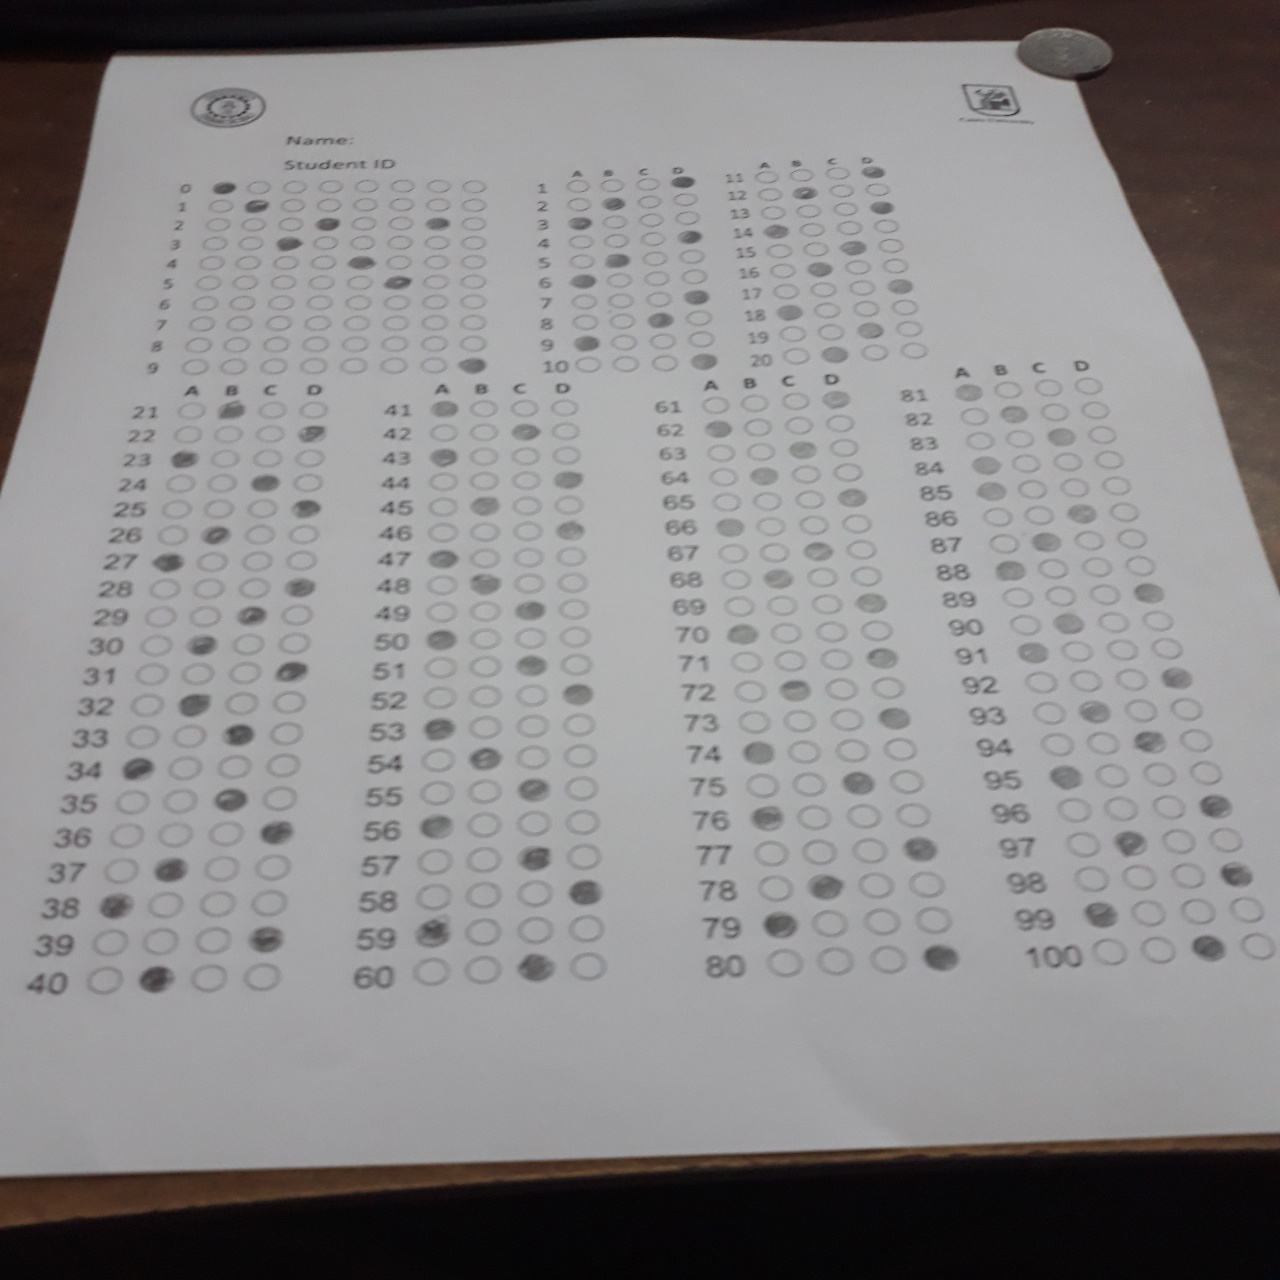not-c: (1129, 896, 1172, 930), (1141, 934, 1177, 965), (1091, 937, 1126, 967), (915, 906, 952, 935), (910, 870, 946, 899), (870, 945, 906, 974), (818, 946, 855, 975), (769, 948, 805, 978), (866, 905, 903, 934), (754, 838, 790, 867), (802, 836, 838, 865), (896, 801, 932, 830), (798, 803, 835, 832), (745, 770, 782, 799), (890, 765, 926, 795), (791, 769, 828, 798), (835, 734, 871, 763), (515, 915, 553, 942), (862, 871, 897, 900), (760, 872, 795, 901), (853, 835, 888, 864), (787, 735, 822, 764), (821, 908, 857, 937), (844, 799, 880, 828), (831, 704, 869, 731), (418, 847, 456, 874), (256, 855, 293, 881), (822, 676, 860, 702), (869, 674, 907, 700), (733, 678, 771, 703), (568, 952, 607, 978), (243, 965, 281, 990), (263, 753, 301, 778), (277, 631, 315, 656), (229, 631, 267, 656), (137, 631, 173, 658), (880, 735, 918, 761), (779, 706, 817, 731), (738, 704, 776, 730), (517, 810, 554, 836), (467, 847, 504, 873), (415, 883, 452, 908), (411, 958, 449, 983), (191, 965, 229, 990), (252, 890, 290, 915), (200, 892, 238, 918), (207, 822, 245, 847), (162, 788, 199, 813), (218, 753, 256, 778), (168, 754, 205, 779), (122, 721, 159, 747), (266, 720, 304, 745), (132, 660, 170, 686), (229, 659, 266, 685), (278, 601, 315, 627), (191, 573, 229, 599), (144, 576, 182, 601), (568, 915, 607, 940), (202, 853, 240, 878), (169, 722, 207, 747), (271, 689, 309, 714), (139, 602, 178, 627), (236, 574, 274, 599), (567, 843, 604, 869), (464, 883, 501, 908), (117, 789, 154, 815), (186, 604, 223, 629), (465, 811, 503, 836), (519, 881, 557, 906), (464, 956, 502, 981), (88, 968, 125, 993), (98, 928, 136, 953), (145, 928, 183, 953), (195, 928, 232, 953), (147, 893, 184, 918), (156, 823, 193, 847), (109, 823, 147, 847), (261, 785, 299, 810), (224, 689, 261, 714), (128, 692, 165, 716), (181, 662, 218, 687), (1162, 828, 1196, 855), (1210, 826, 1244, 853), (1172, 862, 1206, 888), (1241, 933, 1275, 960), (421, 779, 457, 804), (464, 919, 501, 944), (104, 858, 141, 883), (1151, 794, 1184, 821), (1232, 896, 1265, 922), (707, 490, 744, 513), (779, 414, 817, 437), (1058, 797, 1092, 823), (1065, 830, 1099, 856), (1125, 865, 1159, 891), (1077, 865, 1111, 891), (560, 712, 595, 736), (516, 713, 551, 737), (421, 748, 456, 772), (1179, 729, 1216, 753), (768, 593, 804, 617), (565, 811, 601, 835), (1189, 760, 1221, 785), (1102, 795, 1135, 821), (1184, 897, 1217, 922), (842, 537, 879, 559), (797, 512, 835, 535), (755, 515, 792, 537), (831, 459, 869, 482), (700, 393, 737, 415), (1167, 697, 1203, 721), (1087, 731, 1122, 755), (1039, 733, 1074, 756), (1096, 763, 1131, 787), (1142, 762, 1177, 785), (792, 486, 828, 510), (469, 715, 504, 738), (520, 745, 556, 769), (561, 745, 597, 769), (566, 776, 601, 799), (1124, 697, 1160, 720), (729, 651, 765, 673), (772, 648, 809, 670), (818, 648, 855, 670), (859, 618, 896, 640), (815, 621, 851, 644), (770, 622, 806, 645), (811, 592, 847, 614), (847, 564, 884, 586), (804, 565, 840, 587), (749, 488, 785, 510), (788, 462, 824, 484), (829, 437, 865, 459), (702, 441, 738, 463), (741, 392, 777, 414), (822, 413, 858, 435), (738, 417, 775, 440), (1032, 701, 1065, 724), (467, 778, 501, 802), (285, 549, 322, 570), (286, 524, 324, 545), (244, 523, 281, 544), (155, 525, 192, 546), (202, 497, 239, 518), (290, 471, 327, 492), (717, 565, 753, 587), (840, 511, 876, 533), (745, 440, 781, 462), (195, 551, 233, 571), (729, 595, 765, 617), (719, 542, 755, 563), (757, 542, 794, 563), (240, 550, 277, 571), (159, 499, 196, 520), (703, 465, 738, 486), (779, 390, 815, 411), (993, 379, 1026, 401), (959, 406, 992, 428), (1142, 610, 1175, 632), (205, 474, 241, 493), (1117, 527, 1151, 549), (1074, 531, 1105, 553), (987, 532, 1019, 554), (1046, 586, 1077, 608), (1012, 614, 1043, 636), (1027, 669, 1058, 692), (1085, 425, 1121, 445), (1115, 669, 1148, 690), (508, 396, 540, 417), (467, 445, 499, 467), (427, 497, 459, 518), (554, 495, 587, 516), (427, 523, 459, 544), (1037, 554, 1068, 577), (1084, 556, 1115, 578), (1090, 583, 1121, 605), (215, 423, 245, 445), (212, 447, 243, 469), (297, 448, 327, 470), (1092, 450, 1126, 470), (1101, 476, 1135, 496), (1123, 556, 1157, 576), (1073, 375, 1107, 395), (981, 506, 1013, 527), (1023, 504, 1055, 525), (1098, 611, 1130, 632), (1062, 640, 1094, 661), (550, 396, 581, 417), (551, 421, 583, 442), (467, 397, 498, 418), (469, 420, 501, 441), (511, 445, 543, 467), (551, 443, 583, 464), (469, 471, 501, 492), (513, 495, 545, 516), (554, 546, 586, 567), (512, 520, 544, 542), (470, 547, 502, 568), (515, 571, 546, 592), (559, 599, 591, 620), (427, 601, 458, 622), (469, 629, 501, 651), (513, 627, 545, 648), (424, 686, 456, 707), (470, 685, 502, 706), (297, 399, 328, 420), (1108, 502, 1141, 522), (1010, 454, 1043, 474), (1050, 452, 1083, 472), (468, 602, 501, 622), (248, 497, 278, 519), (1005, 587, 1035, 608), (1151, 636, 1182, 658), (1110, 639, 1141, 660), (1070, 670, 1101, 692), (429, 423, 459, 444), (511, 470, 542, 491), (429, 468, 459, 489), (471, 522, 502, 543), (512, 546, 543, 567), (558, 572, 588, 593), (559, 625, 590, 646), (561, 654, 592, 675), (173, 422, 204, 443), (177, 397, 207, 418), (253, 447, 284, 468), (254, 418, 285, 440), (256, 396, 286, 417), (166, 472, 196, 493), (1080, 400, 1112, 418), (1039, 402, 1071, 421), (965, 431, 998, 450), (1005, 429, 1037, 448), (1060, 478, 1092, 497), (1016, 478, 1049, 497), (429, 576, 459, 595), (472, 658, 503, 678), (425, 658, 456, 678), (518, 685, 549, 704), (1034, 377, 1065, 396), (781, 324, 809, 342), (651, 332, 678, 350), (687, 331, 714, 349), (381, 334, 411, 350), (386, 253, 416, 270), (182, 358, 210, 375), (193, 292, 222, 309), (204, 215, 232, 232), (224, 333, 252, 350), (231, 272, 259, 290), (425, 177, 454, 195), (459, 177, 488, 195), (652, 354, 680, 372), (611, 354, 639, 372), (573, 358, 601, 375), (783, 348, 811, 366), (765, 241, 794, 259), (762, 204, 790, 222), (316, 178, 346, 195), (382, 313, 411, 329), (383, 293, 413, 309), (386, 195, 415, 211), (427, 196, 456, 212), (207, 195, 234, 212), (459, 195, 486, 212), (771, 281, 798, 299), (768, 261, 795, 279), (760, 185, 787, 203), (387, 215, 417, 230), (184, 338, 212, 354), (189, 316, 217, 333), (198, 254, 226, 271), (200, 233, 229, 250), (225, 314, 253, 331), (234, 253, 263, 270), (236, 234, 264, 251), (245, 178, 273, 195), (241, 213, 270, 230), (302, 334, 331, 350), (302, 313, 331, 329), (353, 196, 381, 212), (420, 314, 448, 331), (421, 334, 449, 350), (461, 334, 489, 350), (459, 314, 488, 331), (461, 293, 489, 309), (459, 274, 488, 291), (459, 253, 488, 270), (461, 215, 489, 231), (754, 168, 782, 184), (802, 241, 830, 258), (817, 324, 845, 340), (891, 299, 919, 315), (853, 300, 881, 316), (846, 258, 874, 274), (881, 258, 910, 274), (872, 218, 900, 234), (829, 182, 857, 198), (300, 358, 329, 373), (305, 294, 334, 309), (384, 233, 414, 248), (422, 293, 451, 308), (195, 273, 222, 290), (222, 355, 248, 372), (229, 294, 256, 311), (282, 178, 309, 195), (635, 175, 662, 191), (638, 210, 665, 226), (673, 207, 700, 224), (640, 230, 667, 246), (644, 268, 670, 285), (576, 312, 602, 328), (617, 334, 644, 350), (896, 321, 922, 338), (849, 279, 876, 295), (878, 237, 905, 253), (271, 274, 299, 290), (266, 315, 294, 331), (264, 338, 292, 353), (309, 274, 338, 290), (309, 253, 338, 268), (314, 234, 342, 250), (315, 195, 343, 210), (355, 178, 383, 193), (389, 177, 417, 192), (352, 216, 380, 231), (349, 233, 377, 248), (348, 274, 376, 290), (343, 315, 372, 331), (343, 359, 372, 374), (382, 358, 410, 373), (424, 234, 452, 250), (424, 273, 452, 288), (790, 166, 818, 182), (755, 168, 783, 183), (863, 345, 891, 360), (903, 342, 931, 358), (833, 200, 862, 216), (864, 181, 892, 196), (282, 196, 308, 212), (641, 248, 667, 265), (606, 272, 632, 288), (570, 293, 595, 309), (610, 291, 635, 307), (647, 290, 673, 306), (263, 358, 290, 373), (350, 297, 377, 312), (459, 234, 486, 250), (673, 191, 700, 206), (570, 195, 597, 210), (602, 213, 629, 229), (687, 309, 714, 325), (801, 222, 828, 237), (794, 202, 821, 217), (811, 281, 838, 297), (813, 302, 840, 318), (837, 220, 864, 236), (824, 165, 851, 181), (268, 295, 297, 309), (343, 336, 372, 350), (423, 254, 451, 268), (422, 358, 450, 372), (278, 217, 304, 232), (605, 233, 631, 248), (571, 253, 597, 268), (680, 247, 706, 263), (611, 314, 636, 329), (563, 178, 590, 192), (598, 178, 625, 192), (634, 193, 661, 207), (568, 234, 595, 248), (274, 256, 300, 270), (680, 268, 706, 282)
taken-c: (414, 915, 452, 947), (513, 843, 553, 870), (467, 745, 506, 772), (418, 715, 458, 742), (1013, 638, 1051, 665), (563, 878, 601, 905), (515, 777, 554, 803), (1048, 761, 1085, 788), (1051, 611, 1089, 638), (762, 910, 799, 937), (517, 953, 554, 980), (417, 813, 454, 840), (1114, 830, 1151, 856), (1076, 697, 1114, 723), (511, 652, 549, 678), (1192, 934, 1228, 960), (1084, 901, 1121, 927), (423, 547, 461, 572), (464, 570, 502, 594), (139, 965, 173, 992), (876, 707, 912, 731), (465, 493, 502, 518), (422, 628, 459, 652), (549, 519, 586, 543), (178, 693, 212, 719), (1030, 529, 1065, 553), (971, 452, 1006, 477), (901, 837, 937, 862), (749, 804, 784, 829), (806, 874, 842, 899), (560, 681, 597, 704), (513, 600, 550, 624), (1160, 663, 1194, 688), (992, 558, 1026, 583), (922, 946, 956, 971), (184, 632, 218, 656), (222, 721, 256, 745), (121, 755, 155, 779), (259, 821, 293, 845), (98, 893, 132, 918), (778, 679, 813, 702), (742, 741, 777, 764), (275, 658, 308, 682), (1221, 862, 1255, 885), (1062, 501, 1096, 524), (973, 478, 1007, 502), (215, 785, 248, 809), (154, 858, 188, 881), (248, 926, 282, 949), (1132, 580, 1167, 602), (1043, 425, 1078, 448), (840, 771, 876, 794), (855, 591, 886, 615), (1133, 730, 1167, 753), (1199, 794, 1233, 816), (290, 498, 324, 520), (865, 645, 896, 669), (152, 552, 185, 574), (819, 386, 850, 409), (702, 416, 733, 440), (838, 486, 869, 510), (716, 516, 747, 539), (998, 402, 1029, 424), (553, 469, 585, 491), (508, 420, 540, 441), (428, 397, 461, 418), (297, 422, 329, 443), (169, 448, 202, 469), (248, 472, 281, 493), (282, 576, 315, 597), (237, 604, 270, 625), (955, 380, 986, 402), (790, 438, 821, 461), (802, 540, 833, 561), (429, 445, 461, 467), (217, 399, 248, 420), (200, 523, 232, 544), (764, 566, 794, 588), (751, 465, 782, 486), (728, 622, 758, 644), (568, 333, 600, 350), (382, 272, 413, 290), (424, 215, 455, 232), (458, 358, 489, 374), (565, 271, 595, 287), (599, 195, 628, 211), (646, 311, 675, 327), (690, 353, 717, 370), (777, 302, 804, 320), (887, 277, 914, 294), (602, 252, 631, 268), (792, 183, 821, 199), (840, 239, 869, 256), (860, 162, 888, 178), (867, 197, 896, 213), (565, 216, 594, 231), (682, 290, 712, 305), (764, 223, 791, 239), (822, 347, 849, 363), (277, 234, 305, 250), (676, 229, 704, 244), (806, 261, 835, 277), (209, 181, 238, 195), (670, 173, 697, 189), (857, 322, 884, 338), (243, 199, 271, 213), (313, 216, 341, 230), (349, 254, 377, 268)
